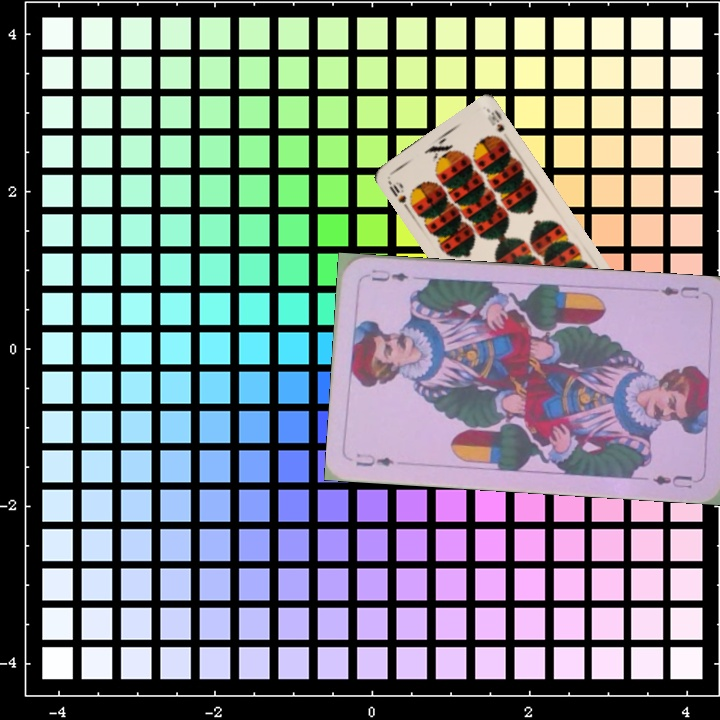EU: (352, 449, 396, 470), (657, 282, 702, 302)
S10: (383, 176, 411, 212)
